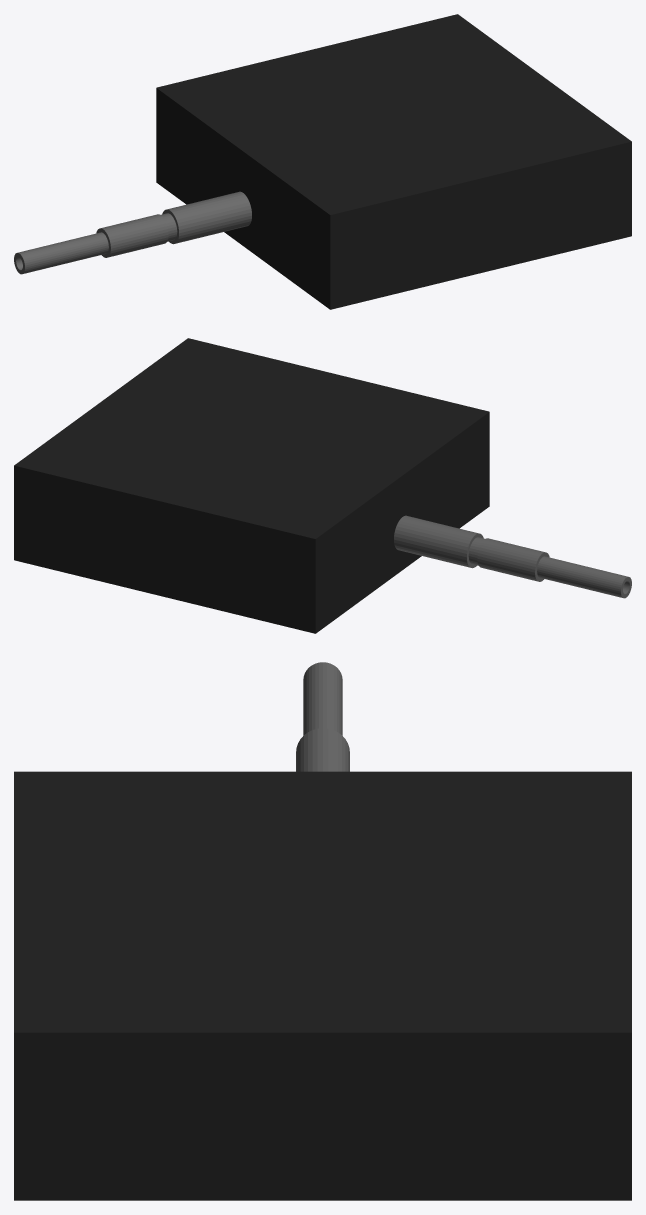
The model's file is TangibleTurret.fbx.
3 views of the same model, one above another, from view 1: azimuth 30°, elevation 25°; view 2: azimuth 150°, elevation 25°; view 3: azimuth 270°, elevation 25° (orthographic). The views are drawn at different scales.
Parts seen in each view (by area): view 1: Head; view 2: Head; view 3: Head.
Boxes of the visible parts, box(x1,y1,x2,y2) form: Head: box(14, 14, 631, 309); Head: box(14, 338, 631, 633); Head: box(14, 662, 631, 1200).
Size of the model in its own units: 1393 by 240 by 800.
